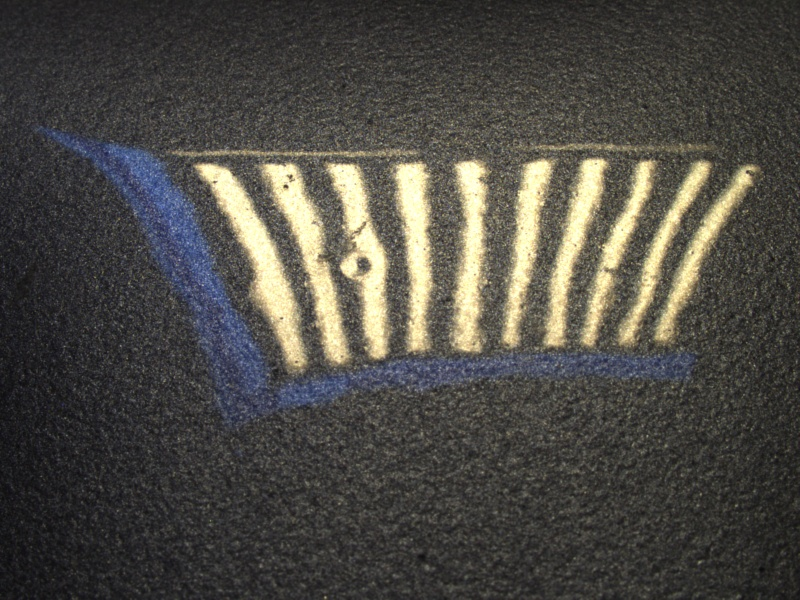bad: (336, 245, 382, 285)
